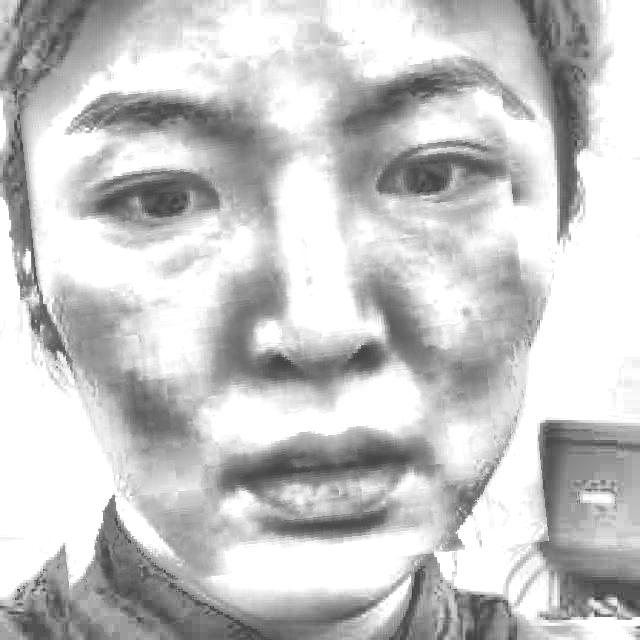fear: (29, 42, 537, 580)
